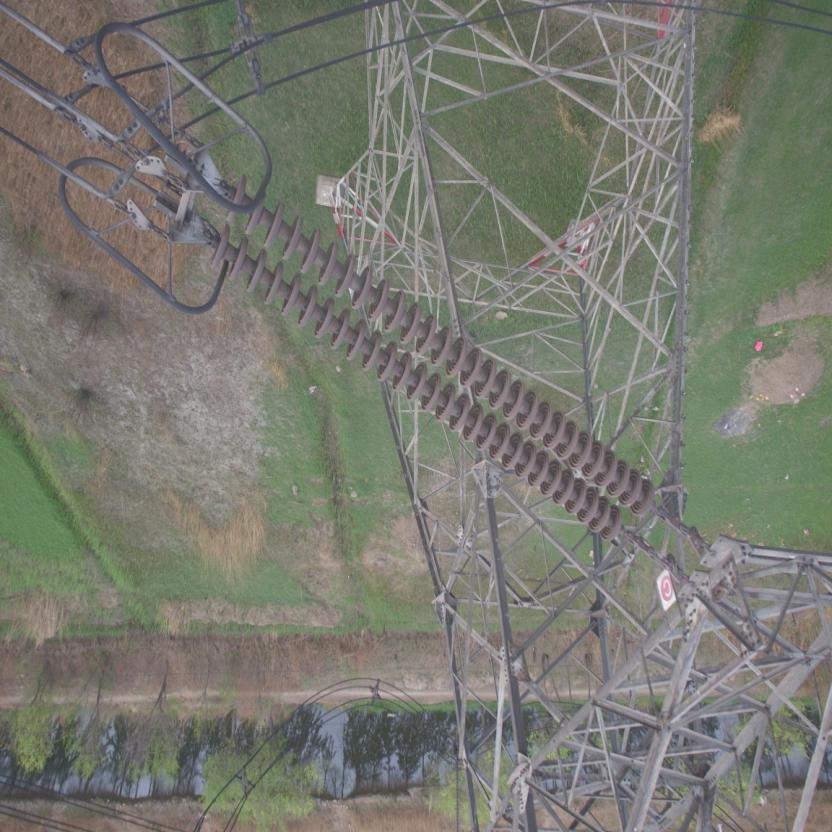insulator: (203, 172, 670, 562)
